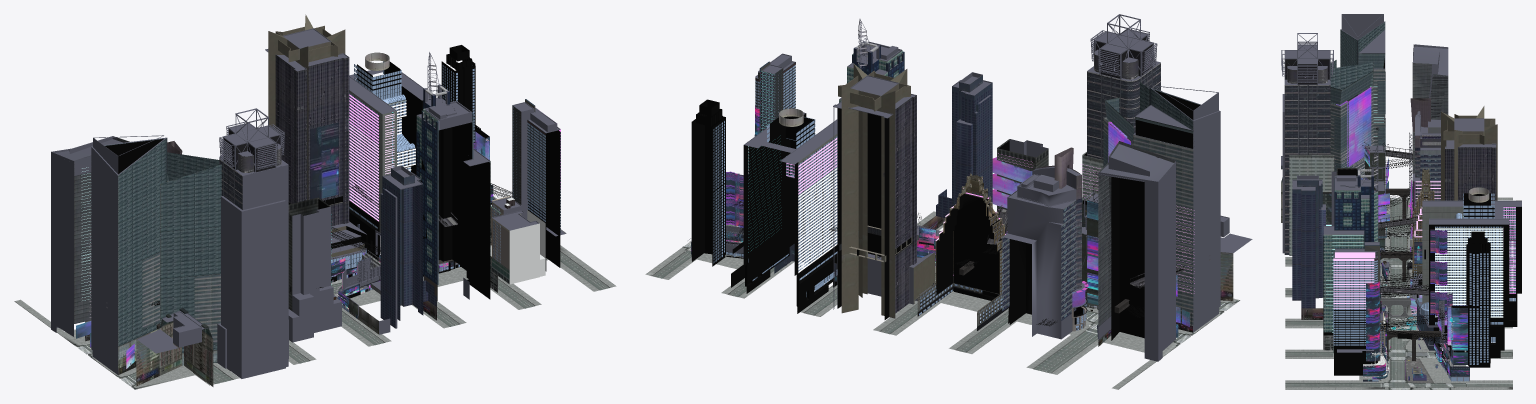
File: citylast-transformed.glb
3 views of the same model, side by side, from view 1: azimuth 30°, elevation 25°; view 2: azimuth 150°, elevation 25°; view 3: azimuth 270°, elevation 25° (orthographic). The views are drawn at different scales.
Visible parts, largest first — view 1: Object_14, Object_180, Object_26, Object_41, Object_17, Object_32, Object_11, Object_44.002, Object_68, Object_186, BézierCurve.062, Object_189; view 2: Object_14, Object_26, Object_180, Object_41, Object_32, Object_17, Object_11, Object_44.002, Object_186, Object_189, BézierCurve.062; view 3: Object_180, Object_14, Object_26, Object_41, Object_32, Object_17, Object_11, Plane.007, BézierCurve.062, Object_44.002, Cube.029, Cube.031 (+4 smaller).
Boxes of the visible parts, <box> form: Object_14: <box>51,28,565,378</box>; Object_180: <box>74,55,490,370</box>; Object_26: <box>105,45,560,299</box>; Object_41: <box>85,14,560,386</box>; Object_17: <box>331,61,560,311</box>; Object_32: <box>14,196,616,389</box>; Object_11: <box>310,99,534,286</box>; Object_44.002: <box>90,103,560,317</box>; Object_68: <box>490,197,566,284</box>; Object_186: <box>76,224,453,368</box>; BézierCurve.062: <box>149,183,512,305</box>; Object_189: <box>337,94,378,300</box>; Object_14: <box>683,14,1252,361</box>; Object_26: <box>691,67,1199,340</box>; Object_180: <box>839,41,1200,326</box>; Object_41: <box>755,29,1233,346</box>; Object_32: <box>645,211,1239,389</box>; Object_17: <box>713,65,1086,330</box>; Object_11: <box>691,61,1177,296</box>; Object_44.002: <box>786,153,1194,293</box>; Object_186: <box>774,200,1189,338</box>; Object_189: <box>798,138,1094,254</box>; BézierCurve.062: <box>732,200,1144,326</box>; Object_180: <box>1284,22,1496,332</box>; Object_14: <box>1281,14,1521,389</box>; Object_26: <box>1322,58,1521,380</box>; Object_41: <box>1281,59,1515,362</box>; Object_32: <box>1285,197,1512,389</box>; Object_17: <box>1333,193,1515,381</box>; Object_11: <box>1336,87,1469,380</box>; Plane.007: <box>1326,86,1503,332</box>; BézierCurve.062: <box>1378,158,1446,342</box>; Object_44.002: <box>1333,139,1515,308</box>; Cube.029: <box>1380,188,1440,360</box>; Cube.031: <box>1378,147,1428,295</box>.
Size of the model in its own units: 29.8 by 15.57 by 15.74.
Materials: 23 (21 with a texture image).
